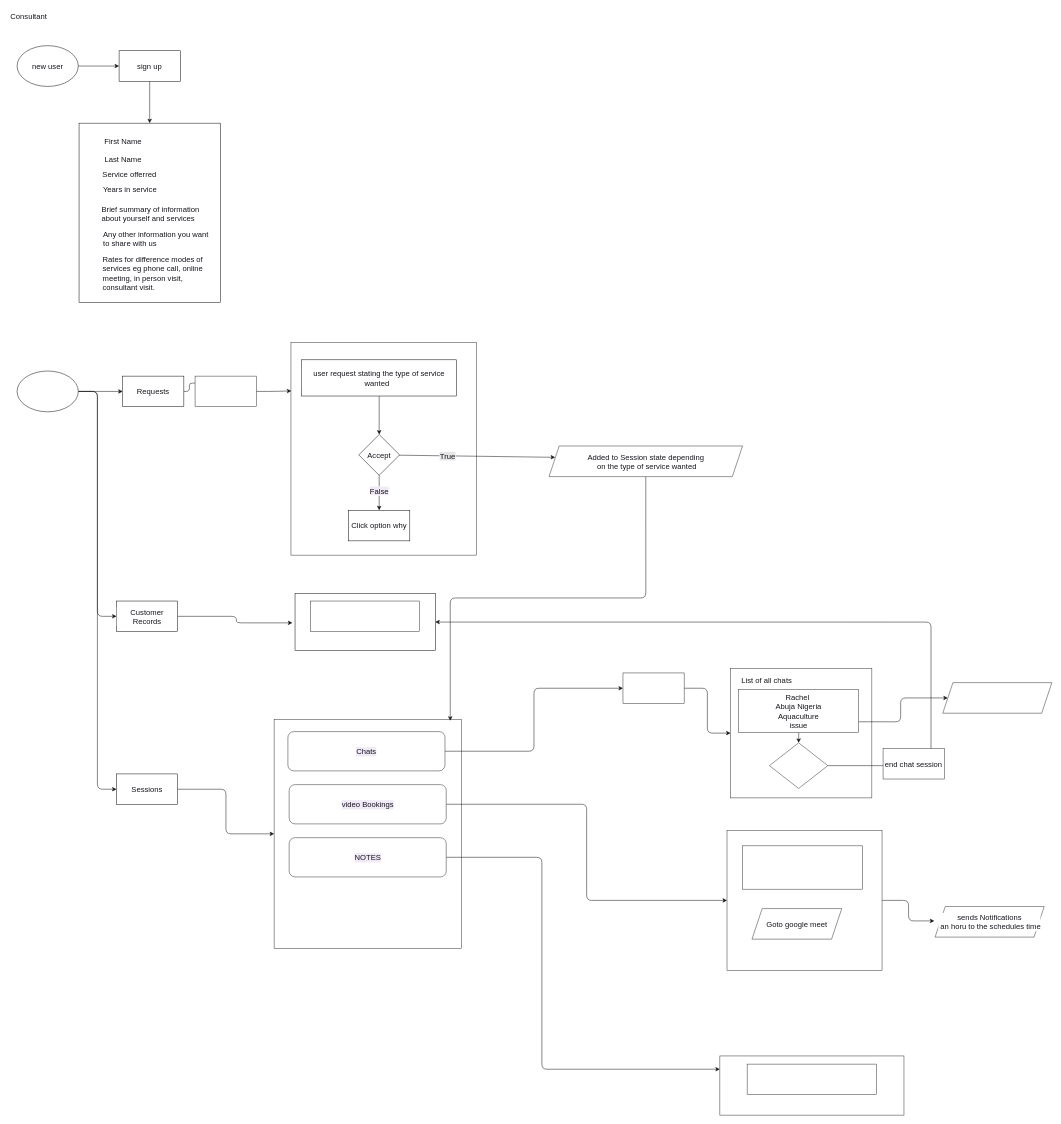
This 1061x1124 diagram has some shape labels left out. The shapes that lost their labels are listed below. From the top down, each one's centre as x and y in pixels, then its label:
At (47,391): "LOGIN".
At (225,391): "Calendly integration".
At (364,616): "History of past session with user name and date and conclusion".
At (653,688): "integration with a chat api or package".
At (997,697): "sends Notifications when there a response".
At (798,765): "start/end chat".
At (802,867): "vidoe call link Date /time Category/farming type issue".
At (812,1079): "Short Notes for keeping information Date".
